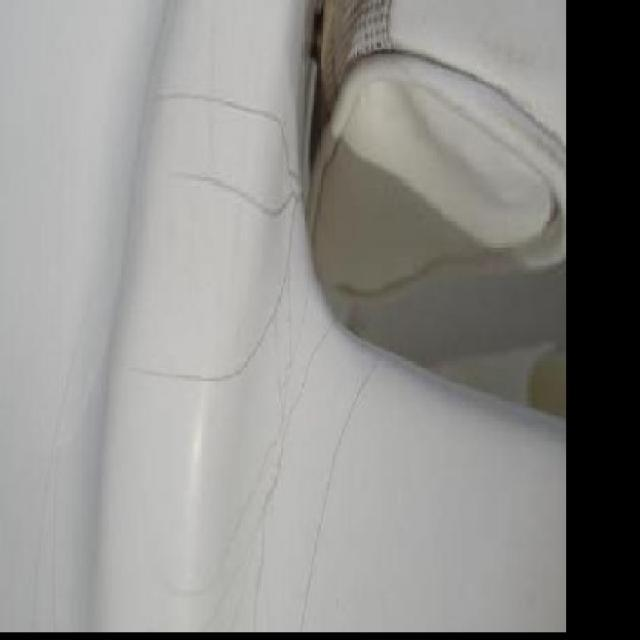crack: (143, 341, 237, 395), (192, 100, 281, 146), (172, 160, 240, 197)
